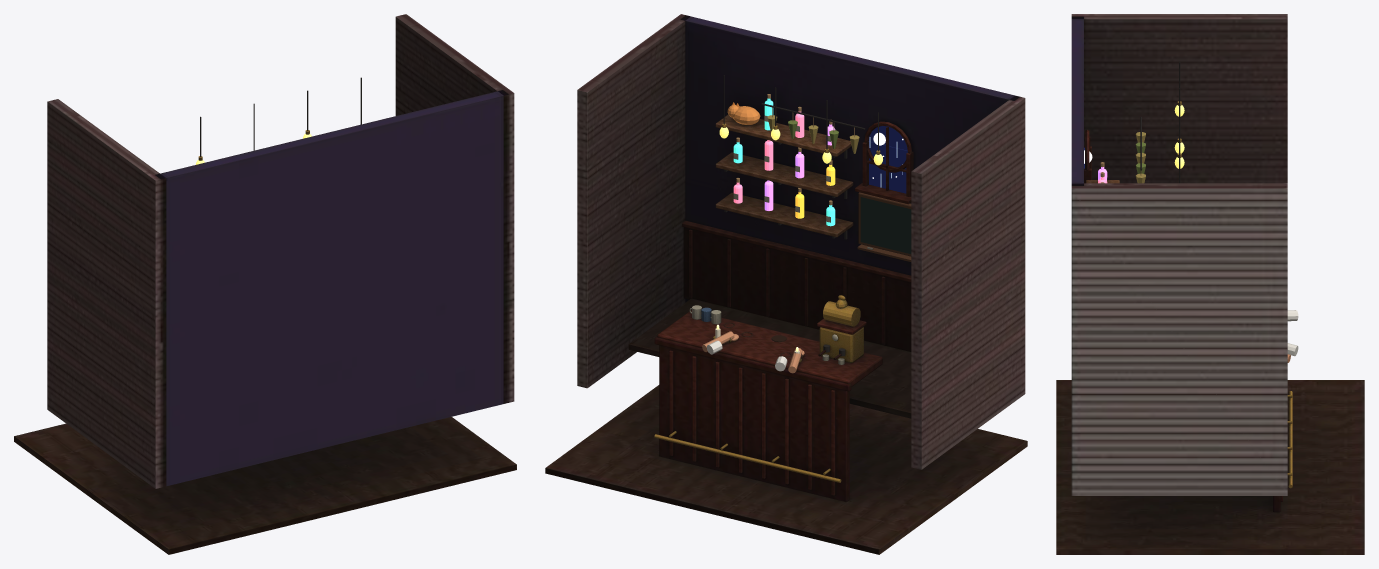
Rendered from loc_cafe.glb.
The picture shows the model from 3 angles, left to right: view 1: azimuth 30°, elevation 25°; view 2: azimuth 150°, elevation 25°; view 3: azimuth 270°, elevation 25°; orthographic projection. The views are drawn at different scales.
Parts seen in each view (by area): view 1: M_wall, M_brick, M_floor; view 2: M_brick, M_wall, M_floor, M_mahogany_dark, M_mahogany, M_wood, M_brass, CHALKBOARD, M_night, M_chalk_frame, M_iron, M_ceramic (+1 smaller); view 3: M_brick, M_floor, M_wall, M_brass.
Boxes of the visible parts, x1,y1,x2,y2 form: M_wall: (155, 90, 508, 486); M_brick: (47, 14, 514, 488); M_floor: (14, 417, 516, 554); M_brick: (577, 14, 1025, 469); M_wall: (680, 15, 1019, 302); M_floor: (545, 298, 1027, 554); M_mahogany_dark: (654, 227, 911, 501); M_mahogany: (657, 121, 913, 495); M_wood: (715, 114, 853, 237); M_brass: (654, 123, 880, 482); CHALKBOARD: (860, 197, 911, 253); M_night: (868, 126, 907, 193); M_chalk_frame: (857, 192, 911, 261); M_iron: (723, 75, 878, 356); M_ceramic: (689, 115, 873, 364); M_brick: (1071, 14, 1287, 495); M_floor: (1056, 380, 1364, 554); M_wall: (1071, 16, 1083, 185); M_brass: (1177, 101, 1292, 488).
Bounding box in the file's own units: 2.68 × 2.64 × 2.
Materials: 33 (9 with a texture image).
